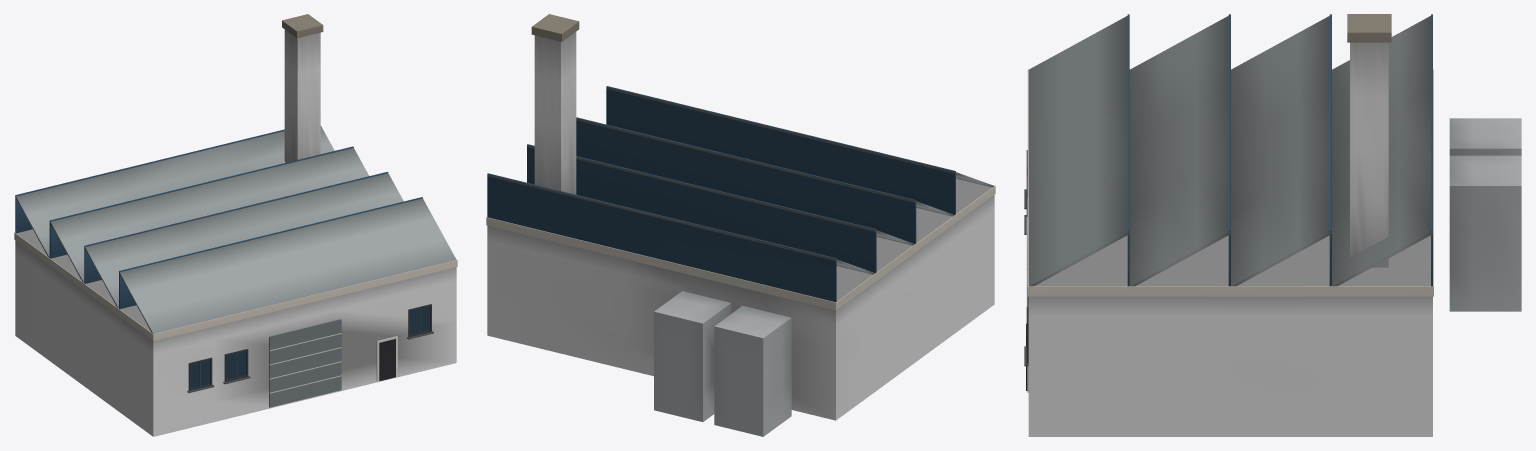
The model's file is fabrica-B9E3b5tM.glb.
The picture shows the model from 3 angles, left to right: view 1: azimuth 30°, elevation 25°; view 2: azimuth 150°, elevation 25°; view 3: azimuth 270°, elevation 25°; orthographic projection. The views are drawn at different scales.
Parts seen in each view (by area): view 1: pieza, losa, losa.002, losa.001, losa.003, porton, pieza.006, pieza.001, pieza.004, pieza.003, pieza.002, pieza.005 (+5 smaller); view 2: pieza, pieza.005, pieza.002, pieza.003, pieza.004, pieza.008, pieza.009, pieza.006, pieza.001, losa.003, losa, losa.001 (+2 smaller); view 3: pieza, losa, losa.001, losa.002, losa.003, pieza.009, pieza.006, pieza.001, pieza.008, pieza.007, pieza.002, pieza.003 (+2 smaller).
Boxes of the visible parts, bbox=[...] form: pieza: bbox=[15, 229, 456, 436]; losa: bbox=[119, 198, 456, 333]; losa.002: bbox=[49, 148, 368, 282]; losa.001: bbox=[84, 173, 403, 308]; losa.003: bbox=[16, 125, 334, 257]; porton: bbox=[269, 319, 341, 407]; pieza.006: bbox=[284, 29, 320, 162]; pieza.001: bbox=[14, 232, 457, 341]; pieza.004: bbox=[49, 146, 353, 258]; pieza.003: bbox=[84, 172, 388, 283]; pieza.002: bbox=[119, 197, 422, 309]; pieza.005: bbox=[15, 129, 284, 233]; pieza: bbox=[487, 178, 994, 420]; pieza.005: bbox=[487, 173, 836, 302]; pieza.002: bbox=[606, 86, 955, 214]; pieza.003: bbox=[576, 117, 916, 243]; pieza.004: bbox=[527, 144, 876, 272]; pieza.008: bbox=[714, 305, 791, 436]; pieza.009: bbox=[654, 291, 731, 421]; pieza.006: bbox=[534, 32, 576, 194]; pieza.001: bbox=[486, 185, 995, 310]; losa.003: bbox=[487, 174, 875, 274]; losa: bbox=[606, 86, 994, 187]; losa.001: bbox=[576, 118, 954, 216]; pieza: bbox=[1028, 235, 1432, 436]; losa: bbox=[1028, 16, 1129, 286]; losa.001: bbox=[1129, 16, 1230, 286]; losa.002: bbox=[1231, 16, 1331, 286]; losa.003: bbox=[1332, 16, 1432, 286]; pieza.009: bbox=[1449, 155, 1521, 311]; pieza.006: bbox=[1350, 42, 1388, 267]; pieza.001: bbox=[1027, 69, 1433, 296]; pieza.008: bbox=[1449, 118, 1521, 155]; pieza.007: bbox=[1347, 14, 1391, 42]; pieza.002: bbox=[1127, 14, 1129, 286]; pieza.003: bbox=[1228, 14, 1230, 286].
Bounding box in the file's own units: 18.56 × 15.4 × 17.96.
